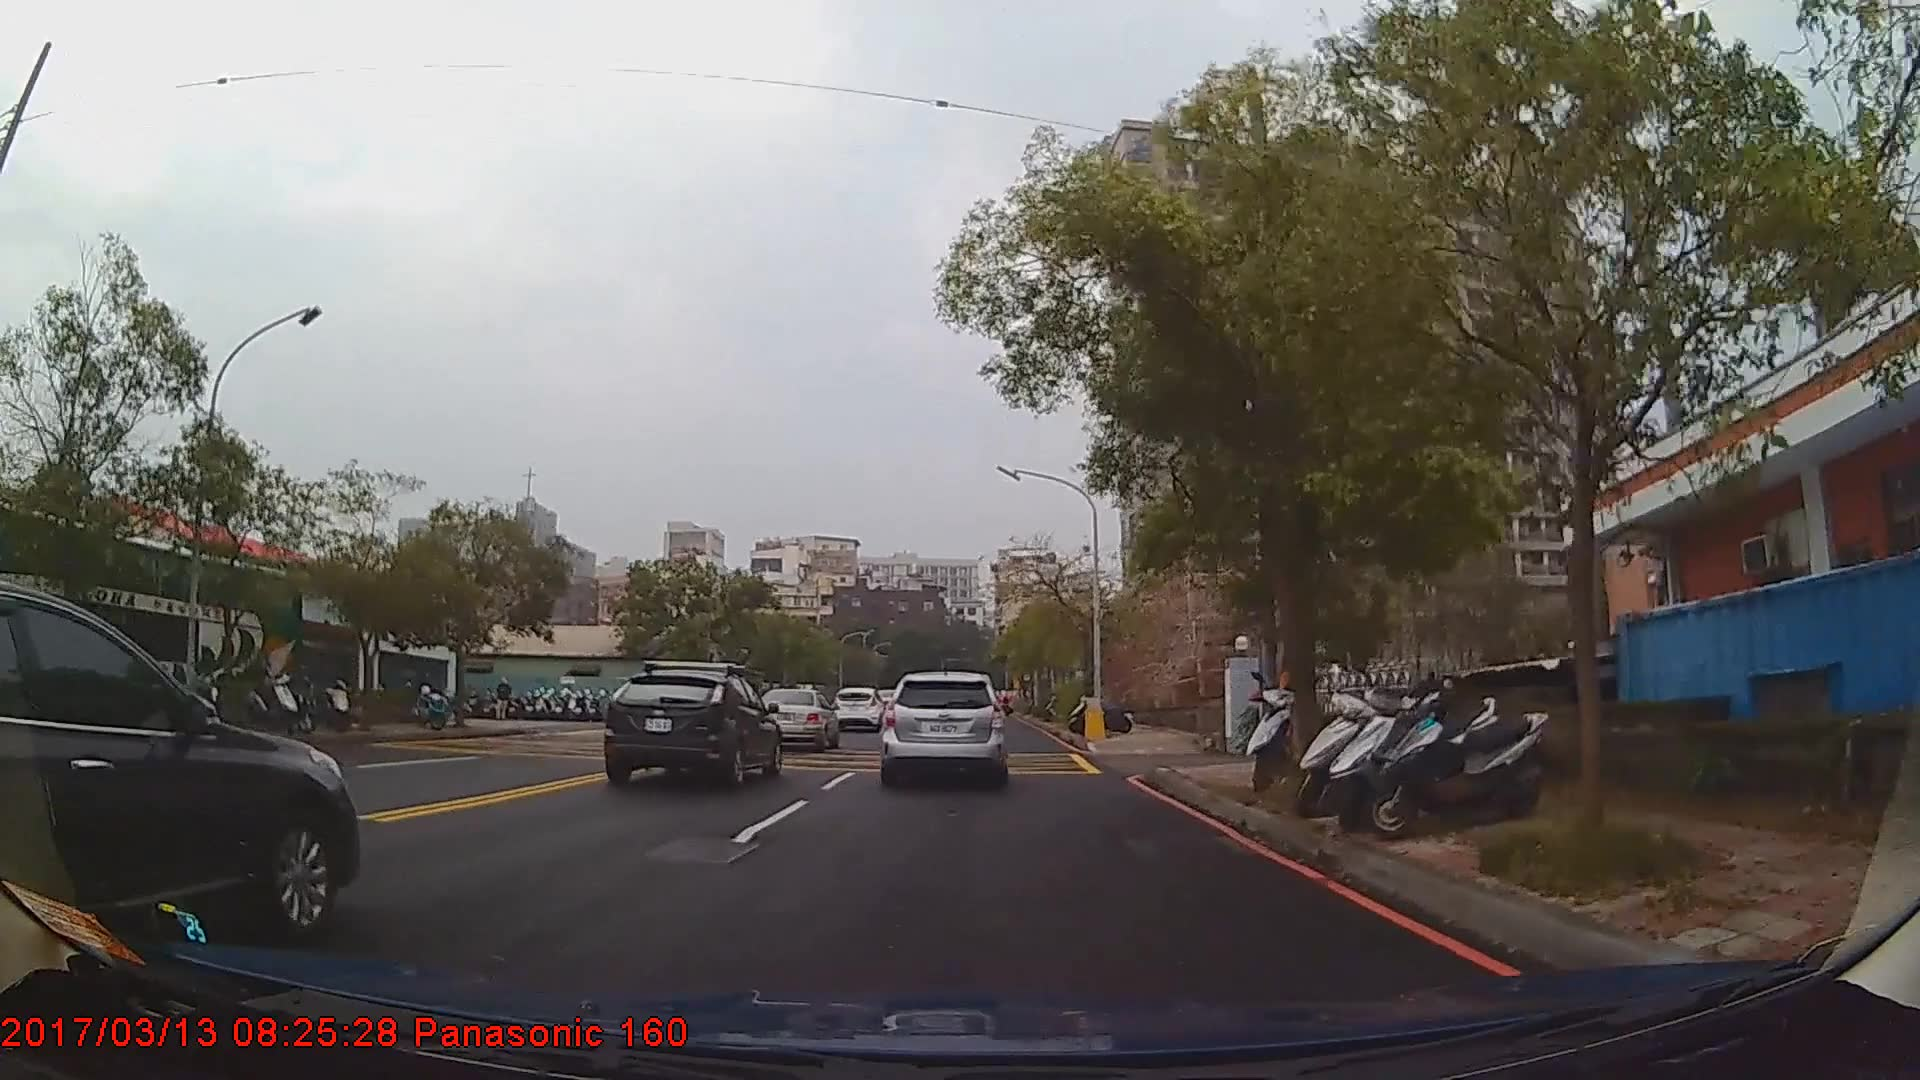vehicle: (0, 576, 360, 959), (0, 498, 297, 738), (600, 669, 781, 790), (881, 669, 1005, 789), (754, 686, 837, 752), (829, 684, 885, 731)
